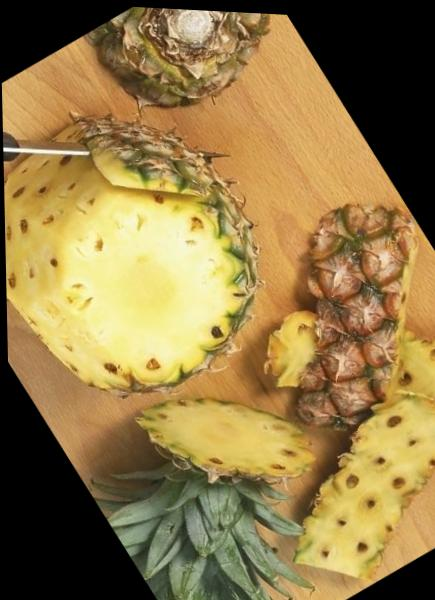organic: (1, 46, 325, 452), (63, 337, 394, 600), (208, 167, 435, 456), (242, 368, 435, 600), (81, 4, 310, 150), (350, 285, 435, 478)
